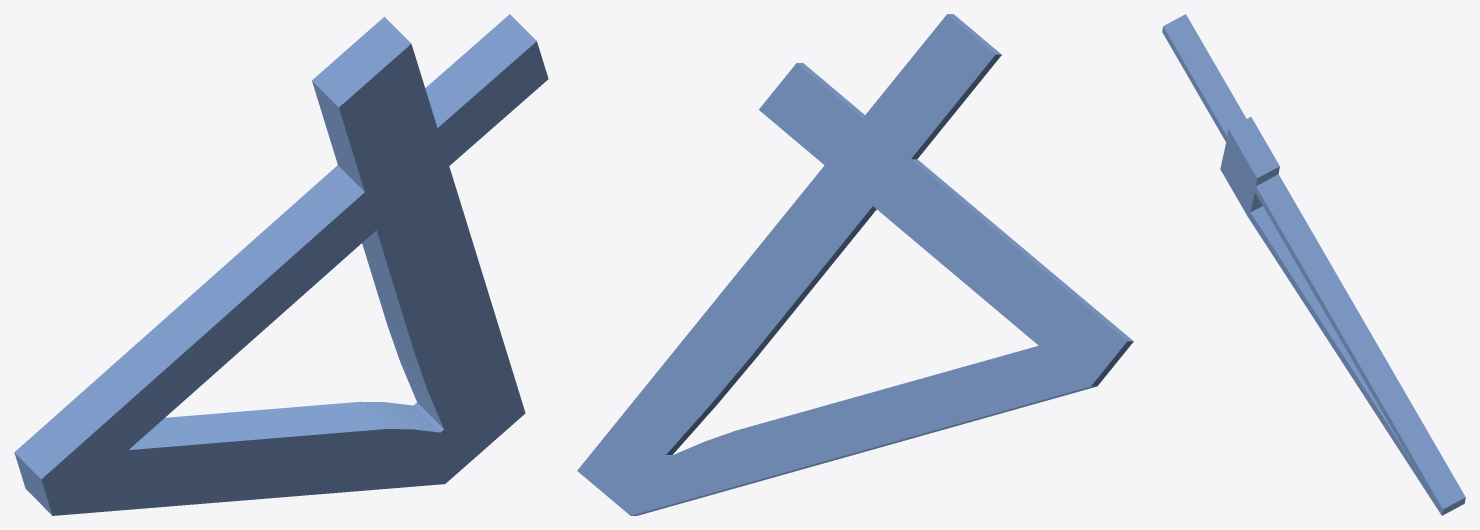
The model's file is New_Number_4.gltf.
The picture shows the model from 3 angles, left to right: view 1: azimuth 30°, elevation 25°; view 2: azimuth 150°, elevation 25°; view 3: azimuth 270°, elevation 25°; orthographic projection. The views are drawn at different scales.
Visible parts, largest first — view 1: Part 562; view 2: Part 562; view 3: Part 562.
Boxes of the visible parts, x1,y1,x2,y2 form: Part 562: [14, 14, 548, 515]; Part 562: [577, 14, 1133, 515]; Part 562: [1162, 14, 1465, 515].
Bounding box in the file's own units: 0.00472 × 0.00458 × 0.00299.
